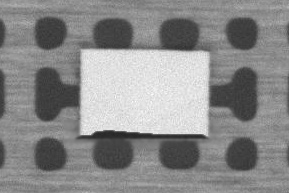DIE_BROKEN: (79, 126, 209, 138)
